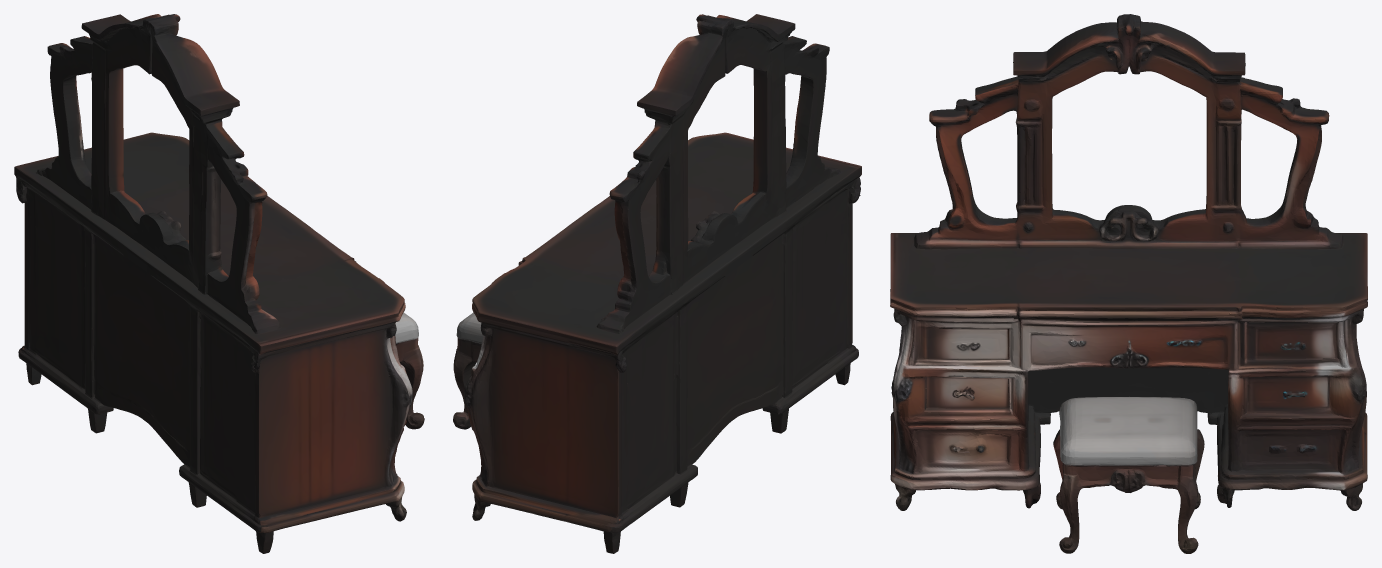
3 views of the same model, side by side, from view 1: azimuth 30°, elevation 25°; view 2: azimuth 150°, elevation 25°; view 3: azimuth 270°, elevation 25° (orthographic). The views are drawn at different scales.
Parts seen in each view (by area): view 1: world; view 2: world; view 3: world.
Boxes of the visible parts, x1,y1,x2,y2 form: world: [14, 14, 424, 553]; world: [453, 14, 861, 553]; world: [890, 14, 1367, 553].
Size of the model in its own units: 0.6119 by 1 by 1.
Materials: 1 (1 with a texture image).
